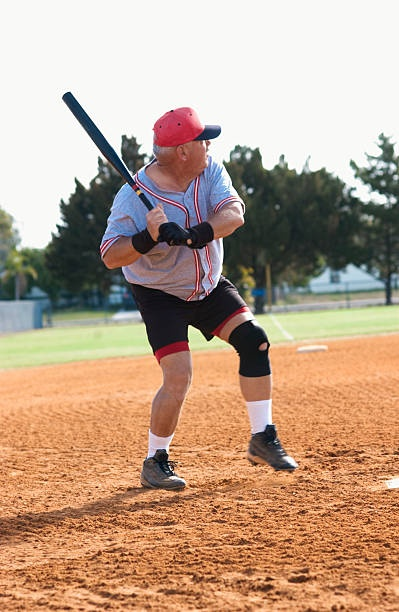bita: (55, 91, 178, 245)
